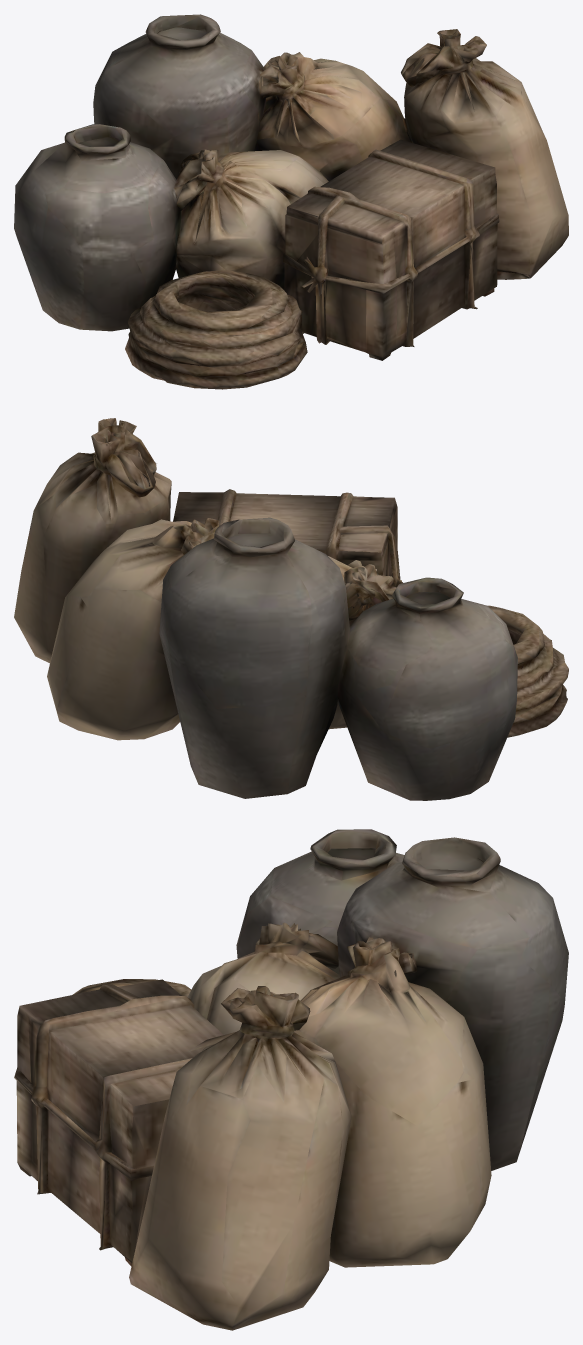
The model's file is cargo_web.glb.
3 renders of one model, top to bottom at view 1: azimuth 30°, elevation 25°; view 2: azimuth 150°, elevation 25°; view 3: azimuth 270°, elevation 25°, orthographic. The views are drawn at different scales.
Parts seen in each view (by area): view 1: node_0; view 2: node_0; view 3: node_0.
Boxes of the visible parts, left/top/right/bottom form: node_0: left=14, top=14, right=568, bottom=389; node_0: left=14, top=418, right=568, bottom=800; node_0: left=14, top=829, right=568, bottom=1330.
Bounding box in the file's own units: 1.11 × 0.4882 × 0.8212.
1 material, 1 textured.
